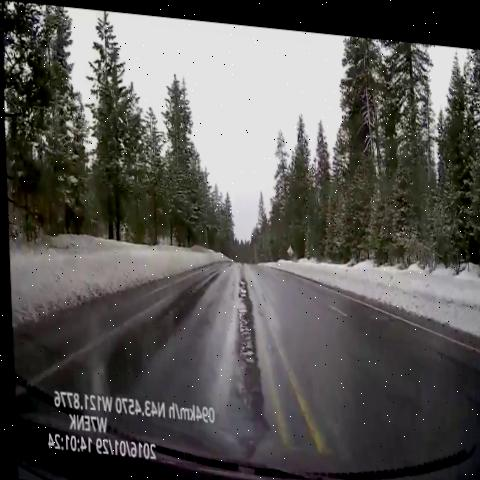pothole: (228, 256, 256, 369)
